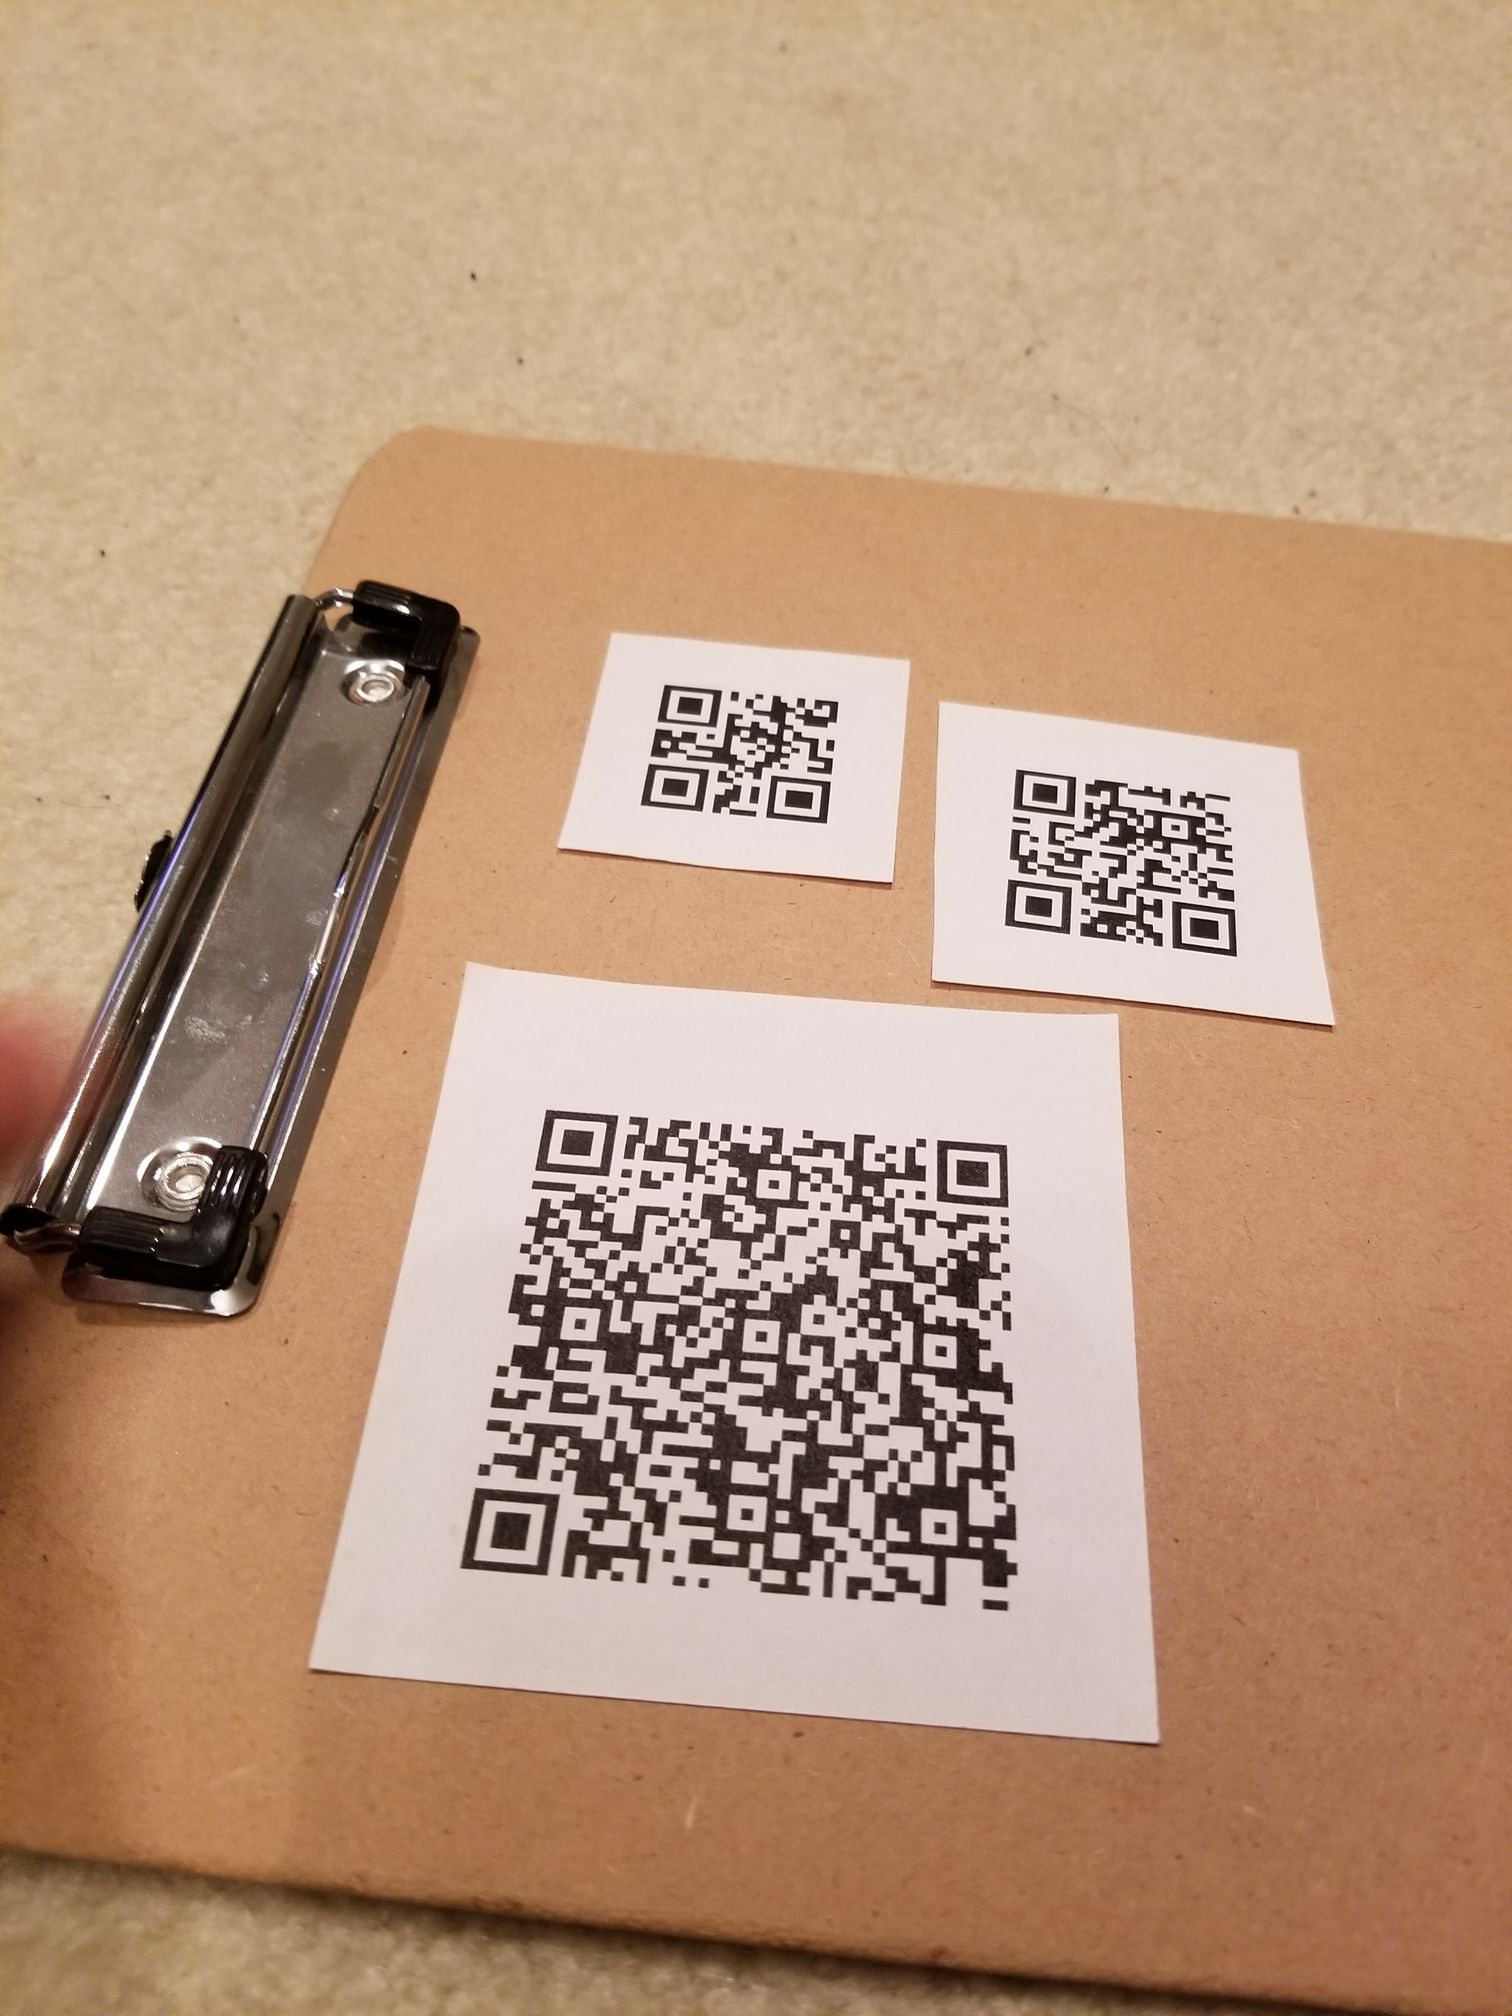QR_CODE: (422, 1060, 1067, 1656), (983, 722, 1267, 989), (615, 644, 862, 848)
